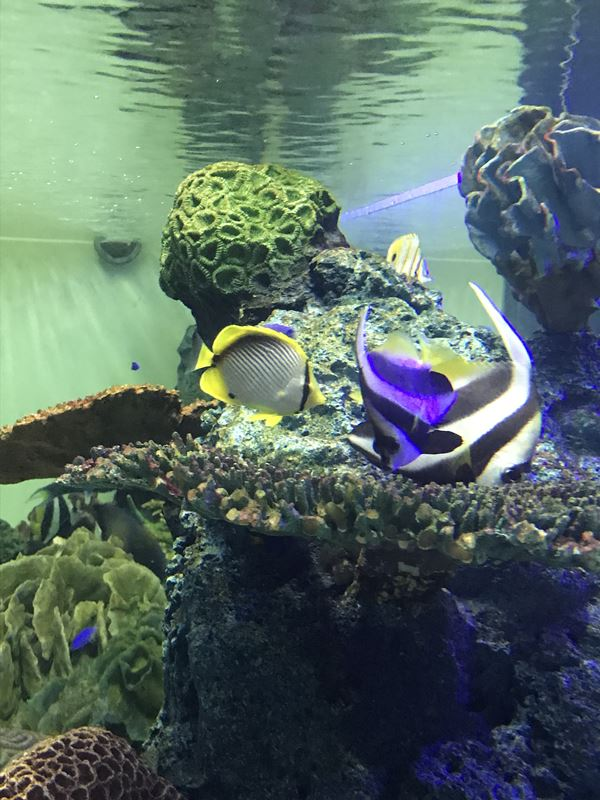Black-backed butterflyfish: (176, 316, 336, 437)
